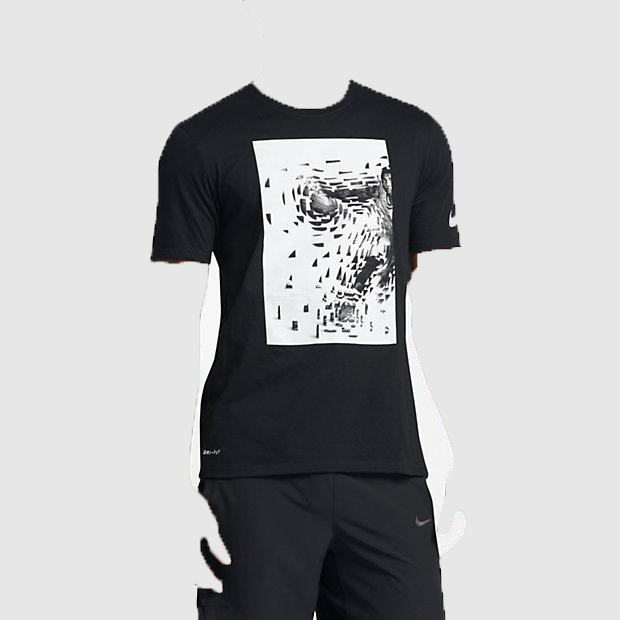teeshirt: (137, 76, 477, 487)
